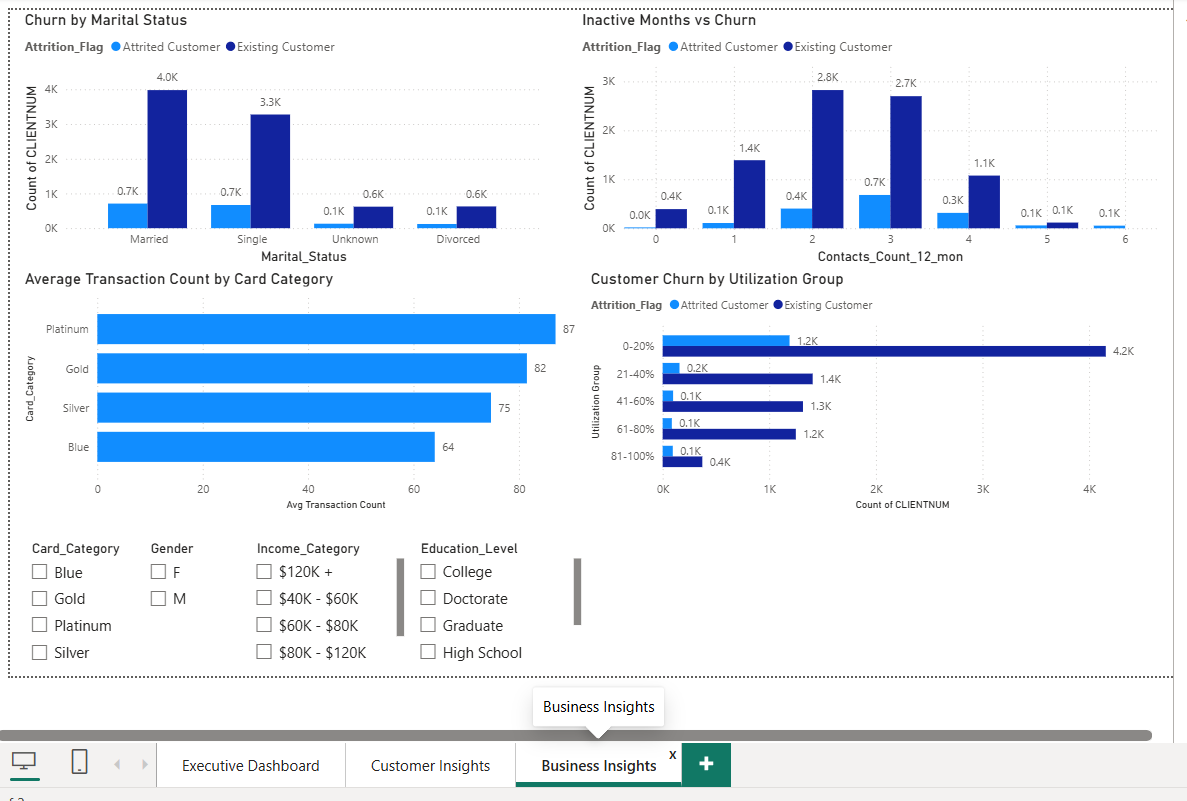

What the dashboard file says about the page in this screenshot:
{"tool":"powerbi","page":{"name":"Business Insights","canvas":[1280,720],"ordinal":2},"visuals":[{"type":"clusteredColumnChart","title":"Churn by Marital Status","fields":{"Category":["credit_card_churn bankchurners.Marital_Status"],"Y":["CountNonNull(credit_card_churn bankchurners.CLIENTNUM)"],"Series":["credit_card_churn bankchurners.Attrition_Flag"]},"box":[10.4,0,568.3,279.6],"z":0},{"type":"clusteredColumnChart","title":"Inactive Months vs Churn","fields":{"Category":["credit_card_churn bankchurners.Contacts_Count_12_mon"],"Y":["CountNonNull(credit_card_churn bankchurners.CLIENTNUM)"],"Series":["credit_card_churn bankchurners.Attrition_Flag"]},"box":[613.5,0,631.1,279.7],"z":1000},{"type":"slicer","fields":{"Values":["credit_card_churn bankchurners.Card_Category"]},"box":[10.4,569.6,129.5,150.2],"z":2000},{"type":"slicer","fields":{"Values":["credit_card_churn bankchurners.Gender"]},"box":[139.8,569.6,113.9,150.2],"z":3000},{"type":"slicer","fields":{"Values":["credit_card_churn bankchurners.Income_Category"]},"box":[253.7,569.6,177.3,150.2],"z":4000},{"type":"slicer","fields":{"Values":["credit_card_churn bankchurners.Education_Level"]},"box":[431.1,569.6,191.6,150.2],"z":5000},{"type":"clusteredBarChart","title":"Average Transaction Count by Card Category","fields":{"Category":["credit_card_churn bankchurners.Card_Category"],"Y":["credit_card_churn bankchurners.Avg Transaction Count"]},"box":[10.8,279.7,612.2,266.2],"z":6000},{"type":"clusteredBarChart","title":"Customer Churn by Utilization Group","fields":{"Category":["credit_card_churn bankchurners.Utilization Group"],"Y":["CountNonNull(credit_card_churn bankchurners.CLIENTNUM)"],"Series":["credit_card_churn bankchurners.Attrition_Flag"]},"box":[623,279.7,613.5,266.2],"z":7000}]}

Visuals, with their boxes on the page's 1280x720 design canvas (x1, y1, x2, y2). These are canvas units, not pixel positions in the 1187x801 screenshot, which may show the page scaled, cropped or inside an application window:
"Churn by Marital Status" clusteredColumnChart: select_region(10, 0, 579, 280)
"Inactive Months vs Churn" clusteredColumnChart: select_region(614, 0, 1245, 280)
slicer - credit_card_churn bankchurners.Card_Category: select_region(10, 570, 140, 720)
slicer - credit_card_churn bankchurners.Gender: select_region(140, 570, 254, 720)
slicer - credit_card_churn bankchurners.Income_Category: select_region(254, 570, 431, 720)
slicer - credit_card_churn bankchurners.Education_Level: select_region(431, 570, 623, 720)
"Average Transaction Count by Card Category" clusteredBarChart: select_region(11, 280, 623, 546)
"Customer Churn by Utilization Group" clusteredBarChart: select_region(623, 280, 1236, 546)
